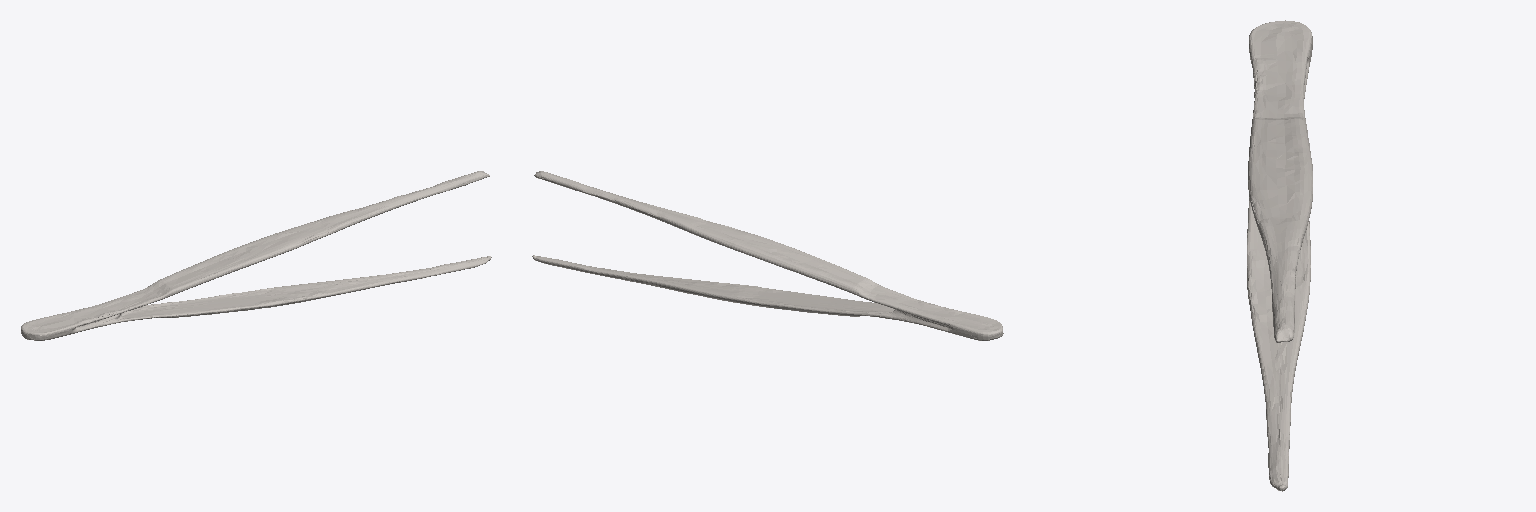
robot.urdf — Tooling_25:
<?xml version="1.0" encoding="utf-8"?>
<!-- This URDF was automatically created by SolidWorks to URDF Exporter! Originally created by Stephen Brawner (brawner@gmail.com)
     Commit Version: 1.6.0-4-g7f85cfe  Build Version: 1.6.7995.38578
     For more information, please see http://wiki.ros.org/sw_urdf_exporter -->
<robot
  name="Tooling_25">
  <link
    name="base_link">
    <inertial>
      <origin
        xyz="9.7334E-05 1.2527E-05 -1.6653E-05"
        rpy="0 0 0" />
      <mass
        value="0.032138" />
      <inertia
        ixx="2.1144E-06"
        ixy="-6.0802E-07"
        ixz="5.5194E-08"
        iyy="5.0615E-05"
        iyz="5.0186E-08"
        izz="5.231E-05" />
    </inertial>
    <visual>
      <origin
        xyz="0 0 0"
        rpy="0 0 0" />
      <geometry>
        <mesh
          filename="../meshes/base_link.STL" />
      </geometry>
      <material
        name="">
        <color
          rgba="0.77647 0.75686 0.73725 1" />
      </material>
    </visual>
    <collision>
      <origin
        xyz="0 0 0"
        rpy="0 0 0" />
      <geometry>
        <mesh
          filename="../meshes/base_link.STL" />
      </geometry>
    </collision>
  </link>
</robot>

--- Facts derived from the render (not from the file) ---
3 views of the same robot in one strip: view 1: azimuth 30°, elevation 25°; view 2: azimuth 150°, elevation 25°; view 3: azimuth 270°, elevation 25° (orthographic).
Robot: Tooling_25 — 1 links, 0 joints (none); root link base_link; default pose: all joints at 0.
Visible links, largest first — view 1: base_link; view 2: base_link; view 3: base_link.
Link boxes in pixels (<box>): base_link: <box>21,171,491,340</box>; base_link: <box>532,171,1003,340</box>; base_link: <box>1247,20,1312,491</box>.
Bounding box of the posed robot: 0.1606 × 0.0114 × 0.0299 m (x, y, z).
1 mesh visuals loaded from 1 distinct referenced files (1 binary STL).
